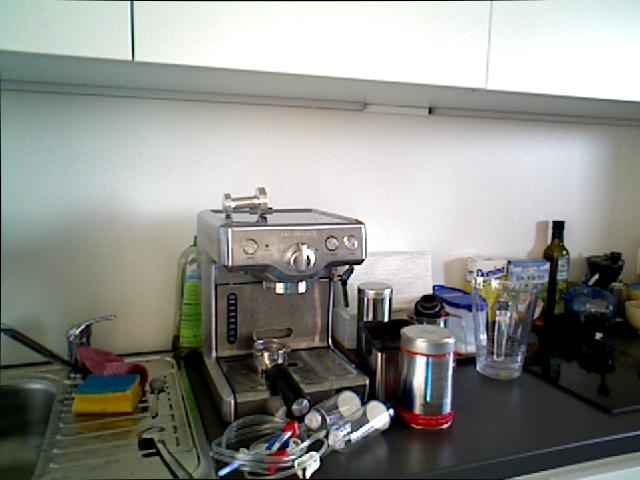bench: (178, 235, 203, 353), (542, 219, 570, 315)
bird: (621, 296, 640, 340)
couch: (0, 372, 80, 480)
handbag: (469, 274, 541, 380)
toilet: (131, 423, 204, 480), (144, 373, 170, 420)
